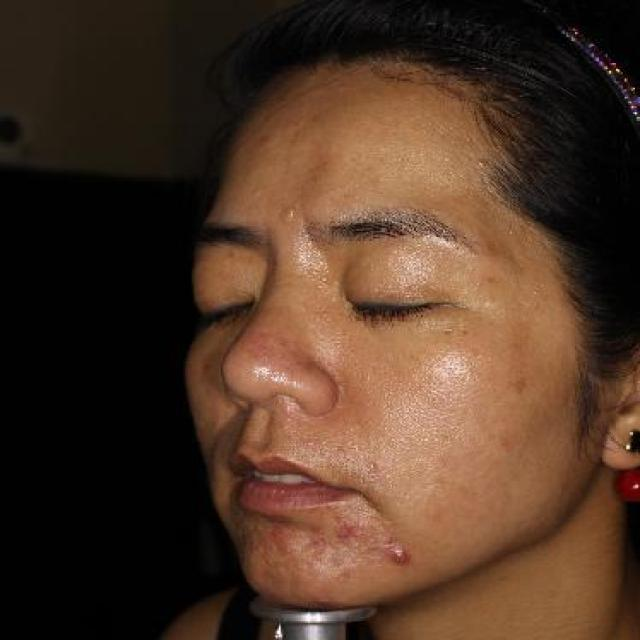Acne: (382, 543, 416, 574), (332, 518, 358, 540)
Whiteheads: (466, 150, 491, 172)
